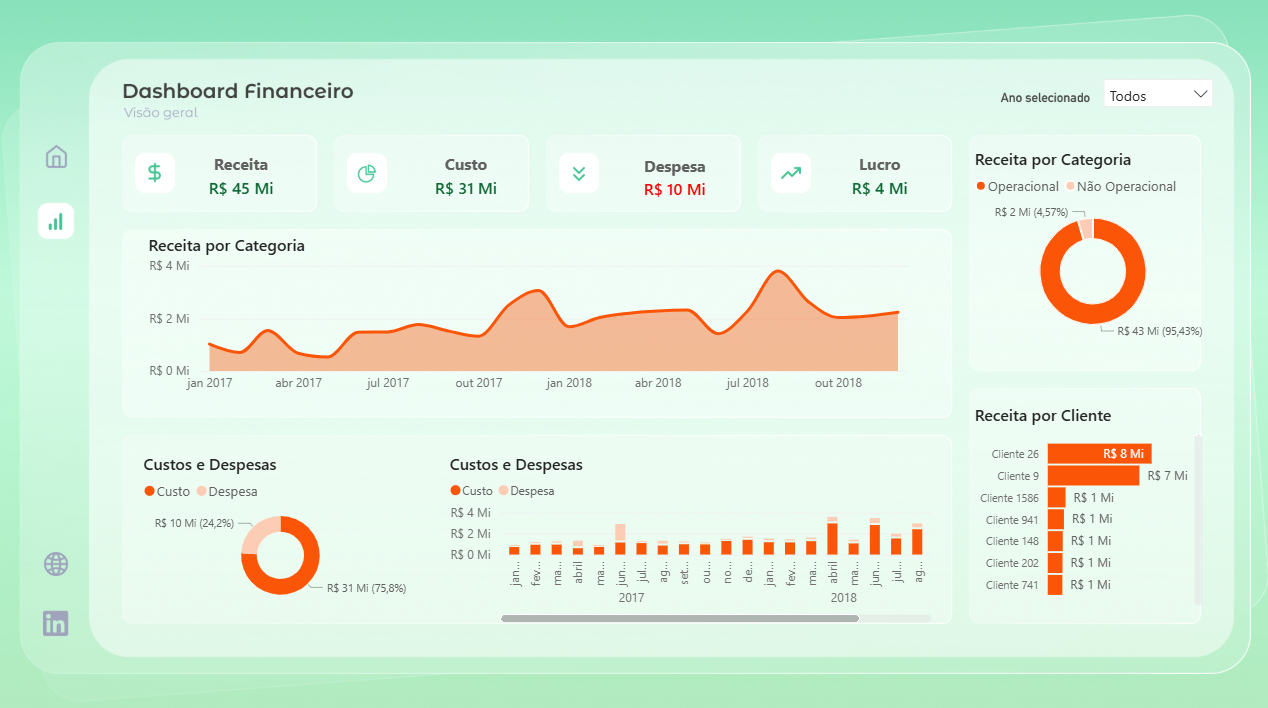

This screenshot's page, from the dashboard's own definition file:
{"tool":"powerbi","page":{"name":"Página 1","canvas":[1280,720],"ordinal":0},"visuals":[{"type":"donutChart","title":"Receita por Categoria","fields":{"Category":["Movimentação.Categoria"],"Y":["Sum(Movimentação.Valor)"]},"box":[976.8,142.9,216.8,216.8],"z":0},{"type":"cardVisual","fields":{"Data":["Sum(Movimentação.Valor)"]},"box":[182.4,132.3,133.6,74.5],"z":1000},{"type":"card","fields":{"Values":["Sum(Movimentação.Valor)"]},"box":[328.8,104.8,202.5,112],"z":2000},{"type":"card","fields":{"Values":["Sum(Movimentação.Valor)"]},"box":[558.7,113.2,195.4,112],"z":3000},{"type":"clusteredBarChart","title":"Receita por Cliente","fields":{"Category":["Movimentação.Cliente"],"Y":["Sum(Movimentação.Valor)"]},"box":[987.5,401.4,204.9,214.4],"z":4000},{"type":"areaChart","title":"Receita por mês/ano","fields":{"Category":["Movimentação.Data da Movimentação.Variation.Hierarquia de datas.Ano","Movimentação.Data da Movimentação.Variation.Hierarquia de datas.Mês"],"Y":["Sum(Movimentação.Valor)"]},"box":[139.4,239.4,810,162],"z":5000},{"type":"donutChart","title":"Custos e Despesas","fields":{"Category":["Movimentação.Natureza da Conta"],"Y":["Sum(Movimentação.Valor)"]},"box":[128.7,443.1,178.7,178.7],"z":6000},{"type":"columnChart","title":"Custos e Despesas","fields":{"Category":["Movimentação.Data da Movimentação.Variation.Hierarquia de datas.Ano","Movimentação.Data da Movimentação.Variation.Hierarquia de datas.Mês"],"Series":["Movimentação.Natureza da Conta"],"Y":["Sum(Movimentação.Valor)"]},"box":[357.1,449.5,593.4,165.7],"z":7000},{"type":"slicer","fields":{"Values":["Movimentação.Data da Movimentação.Variation.Hierarquia de datas.Ano"]},"box":[1098.3,75,94.1,38.1],"z":8000},{"type":"card","fields":{"Values":["Sum(Movimentação.Valor com Sinal)"]},"box":[758.8,113.2,194.2,112],"z":9000}]}

Visuals, with their boxes on the page's 1280x720 design canvas (x1, y1, x2, y2). These are canvas units, not pixel positions in the 1268x708 screenshot, which may show the page scaled, cropped or inside an application window:
"Receita por Categoria" donutChart: [left=977, top=143, right=1194, bottom=360]
cardVisual - Sum(Movimentação.Valor): [left=182, top=132, right=316, bottom=207]
card - Sum(Movimentação.Valor): [left=329, top=105, right=531, bottom=217]
card - Sum(Movimentação.Valor): [left=559, top=113, right=754, bottom=225]
"Receita por Cliente" clusteredBarChart: [left=988, top=401, right=1192, bottom=616]
"Receita por mês/ano" areaChart: [left=139, top=239, right=949, bottom=401]
"Custos e Despesas" donutChart: [left=129, top=443, right=307, bottom=622]
"Custos e Despesas" columnChart: [left=357, top=450, right=950, bottom=615]
slicer - Movimentação.Data da Movimentação.Variation.Hierarquia de datas.Ano: [left=1098, top=75, right=1192, bottom=113]
card - Sum(Movimentação.Valor com Sinal): [left=759, top=113, right=953, bottom=225]
